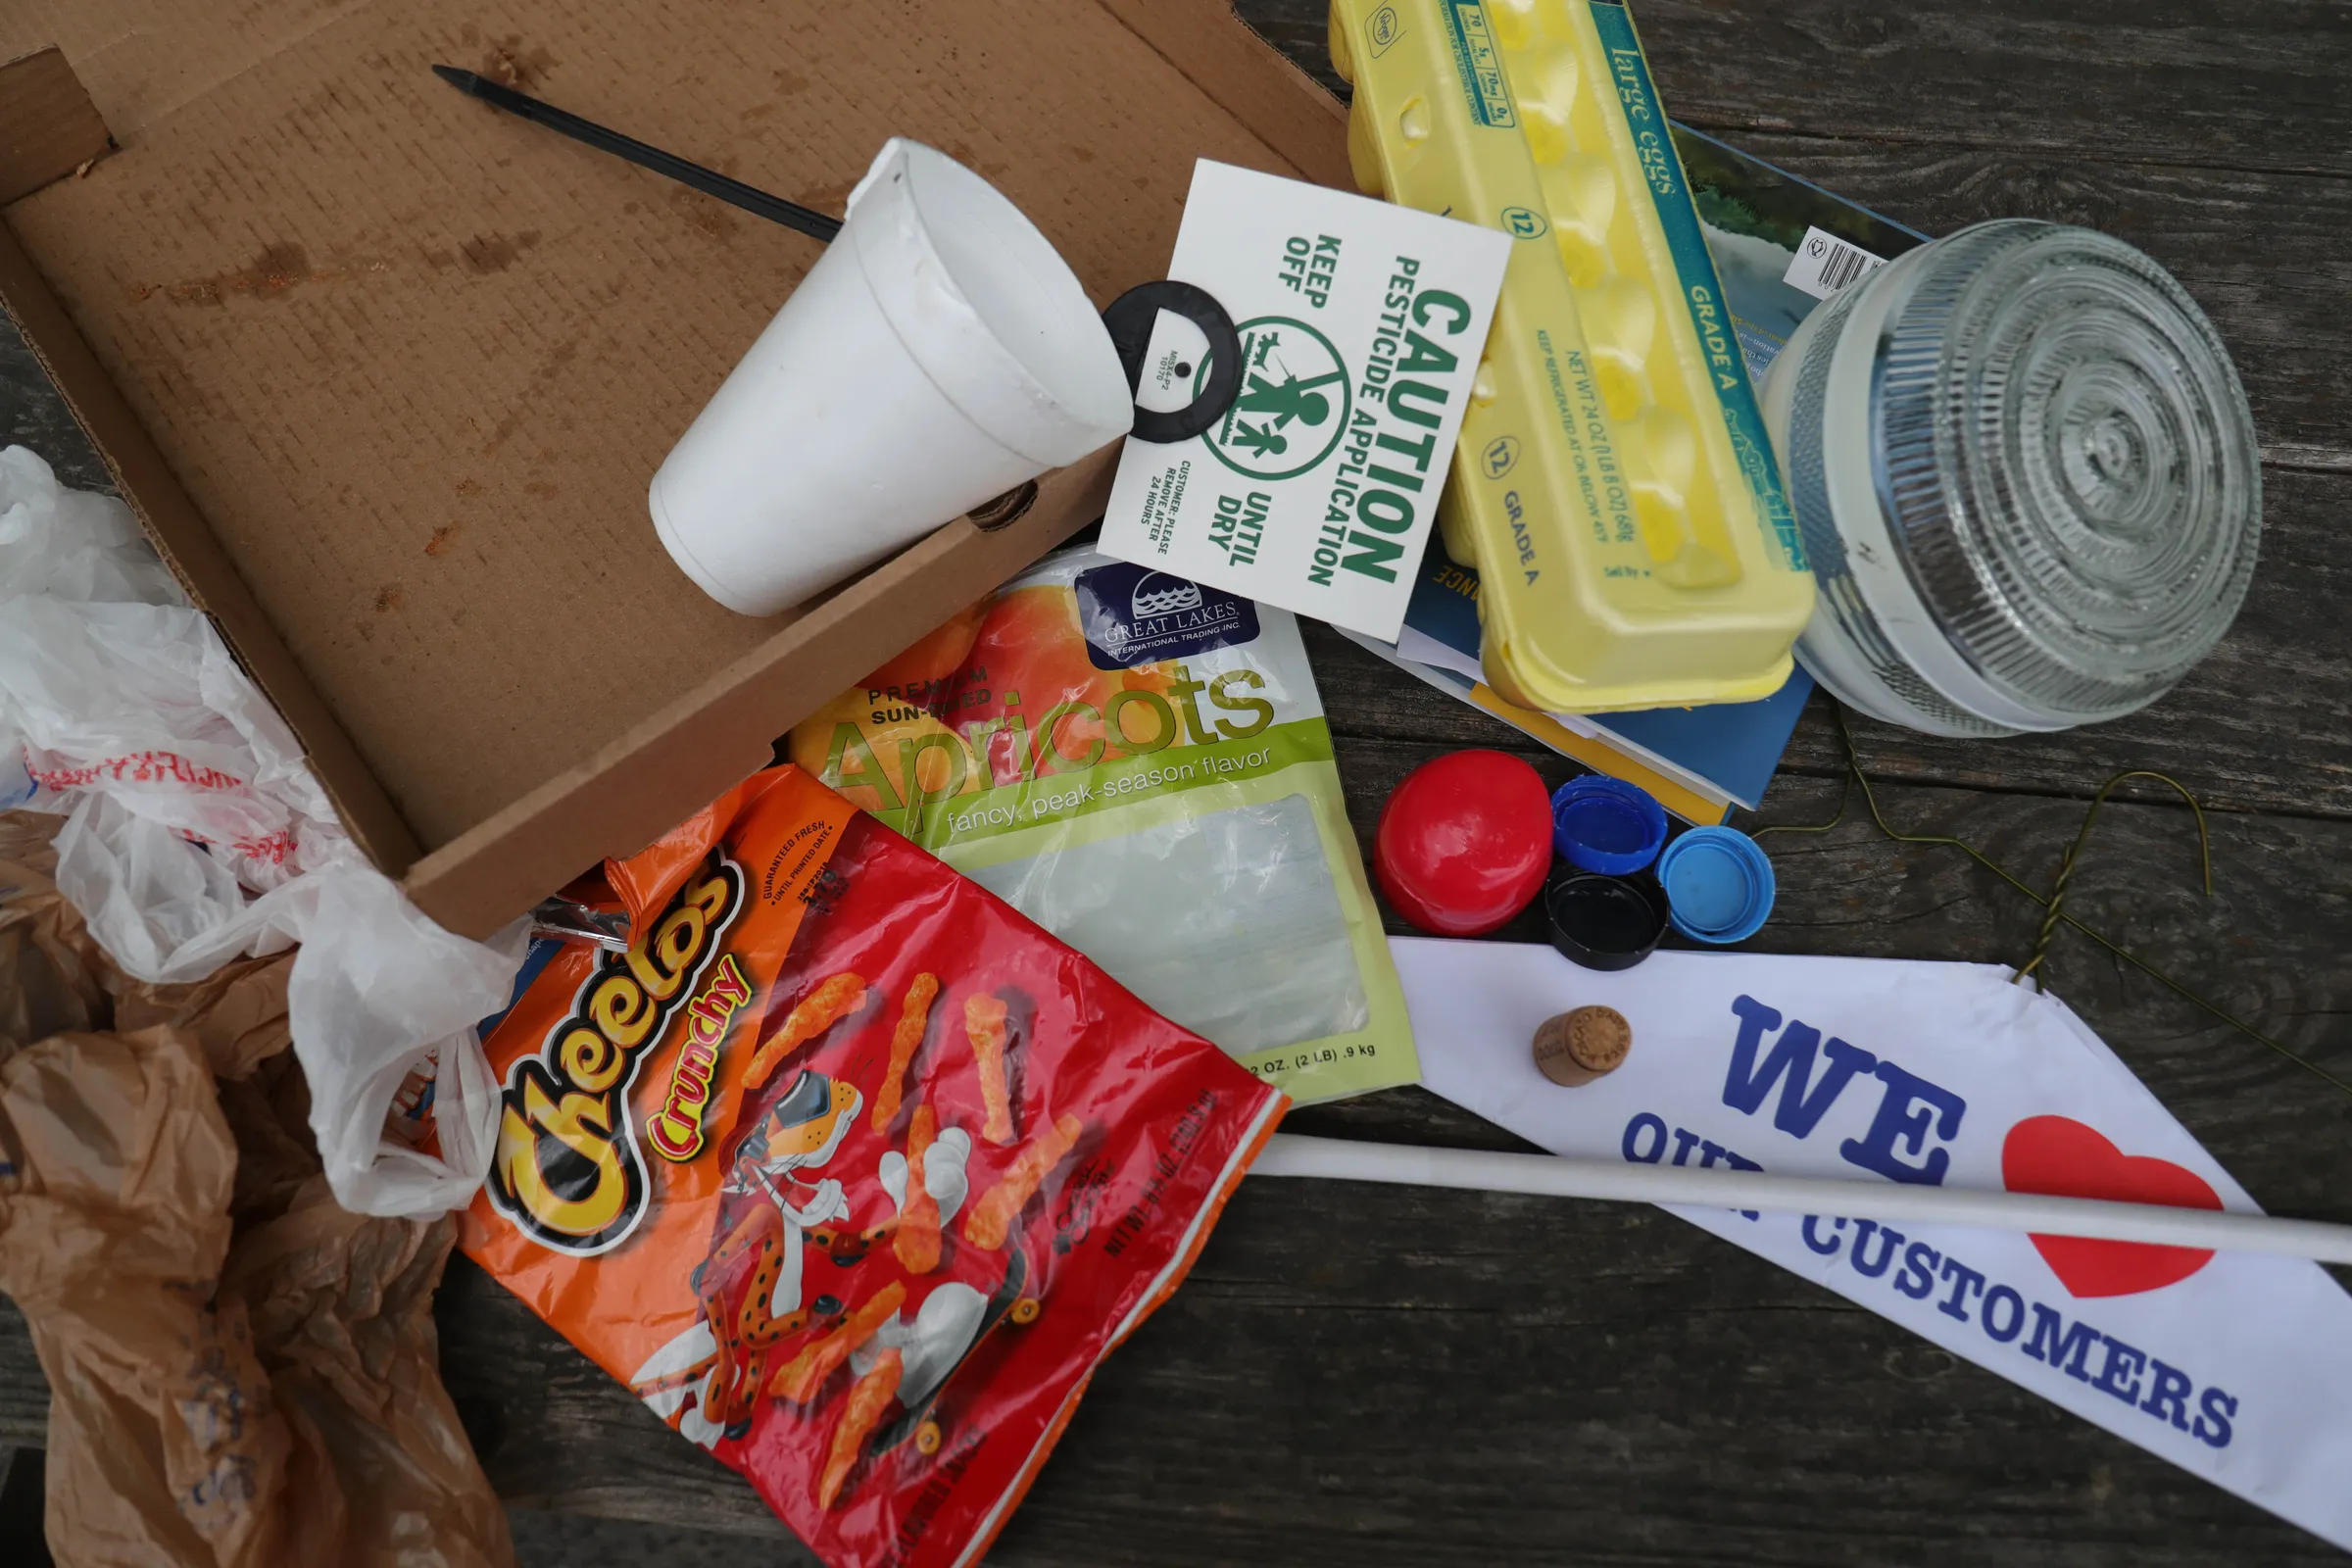paper: (1353, 845, 2352, 1568), (1774, 189, 2291, 724)
plastic: (0, 382, 528, 1218), (593, 135, 1095, 602), (1111, 135, 1515, 632), (1377, 752, 1823, 1076)
plastic bag: (0, 948, 478, 1568)
trash: (478, 721, 1279, 1558)
